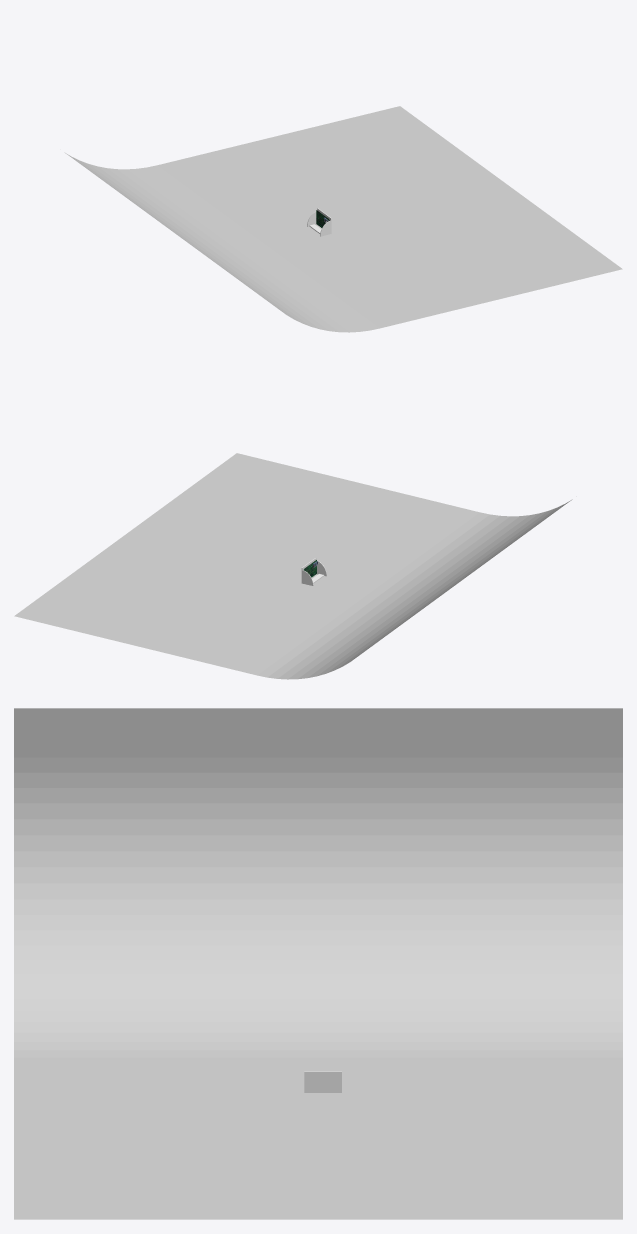
The model's file is IronBord.glb.
3 views of the same model, one above another, from view 1: azimuth 30°, elevation 25°; view 2: azimuth 150°, elevation 25°; view 3: azimuth 270°, elevation 25° (orthographic). The views are drawn at different scales.
Parts seen in each view (by area): view 1: Площина.001, Площина; view 2: Площина.001, Площина; view 3: Площина.001, Площина.
Boxes of the visible parts, box(x1,y1,x2,y2) form: Площина.001: box(64, 106, 622, 332); Площина: box(307, 208, 331, 236); Площина.001: box(14, 453, 572, 679); Площина: box(301, 558, 326, 585); Площина.001: box(14, 708, 622, 1219); Площина: box(304, 1071, 341, 1092).
Bounding box in the file's own units: 72.29 × 33.24 × 72.29.
Materials: 7 (2 with a texture image).
